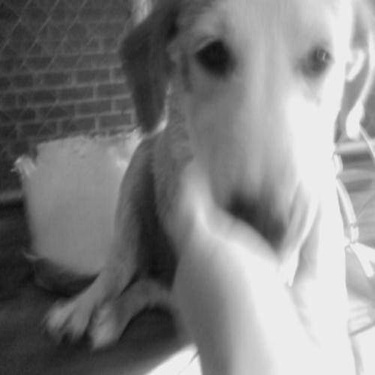dog: (8, 9, 371, 373)
